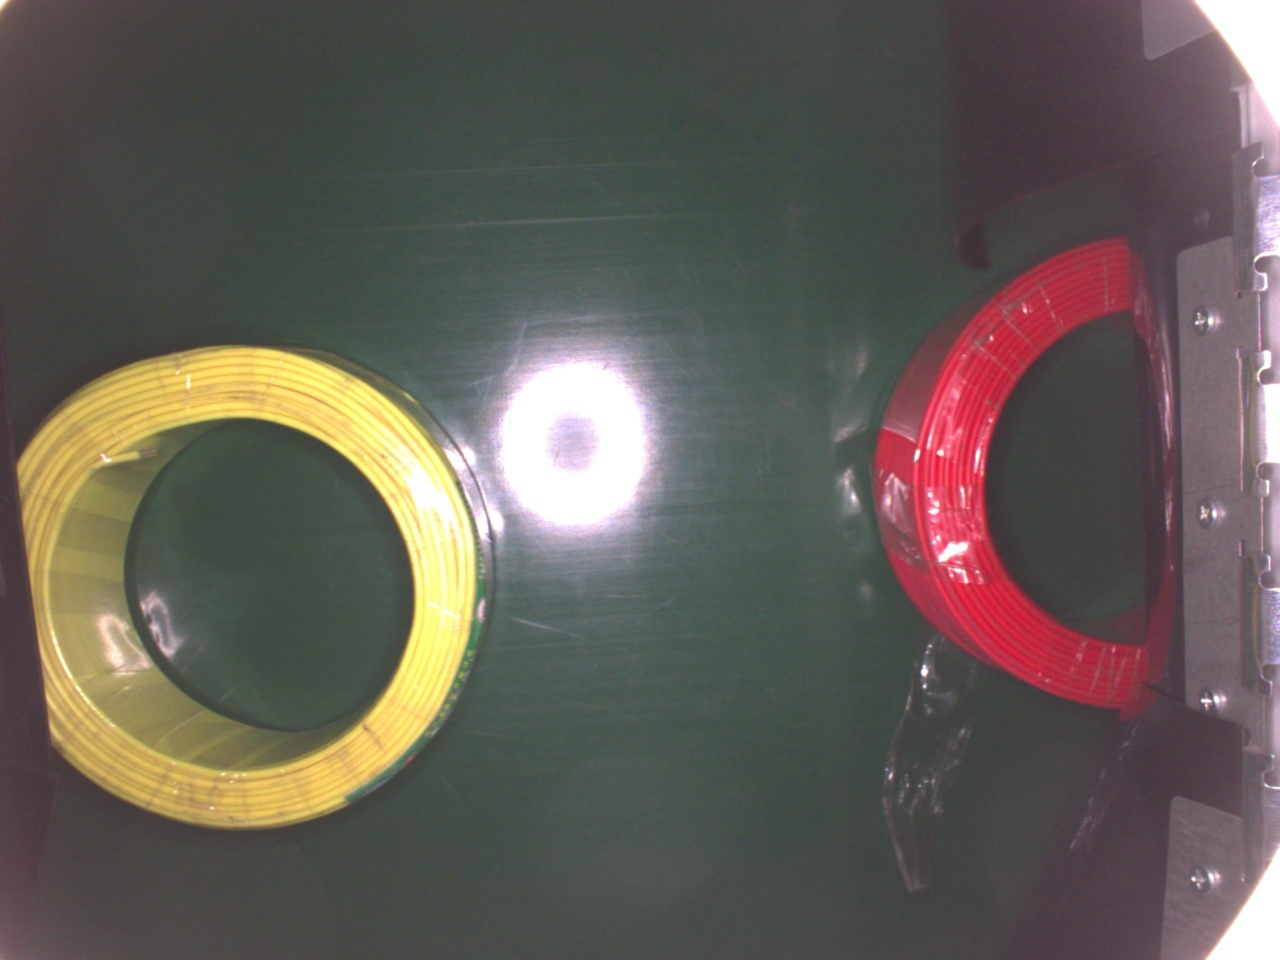red: (870, 229, 1160, 707)
yellow: (17, 340, 496, 828)
